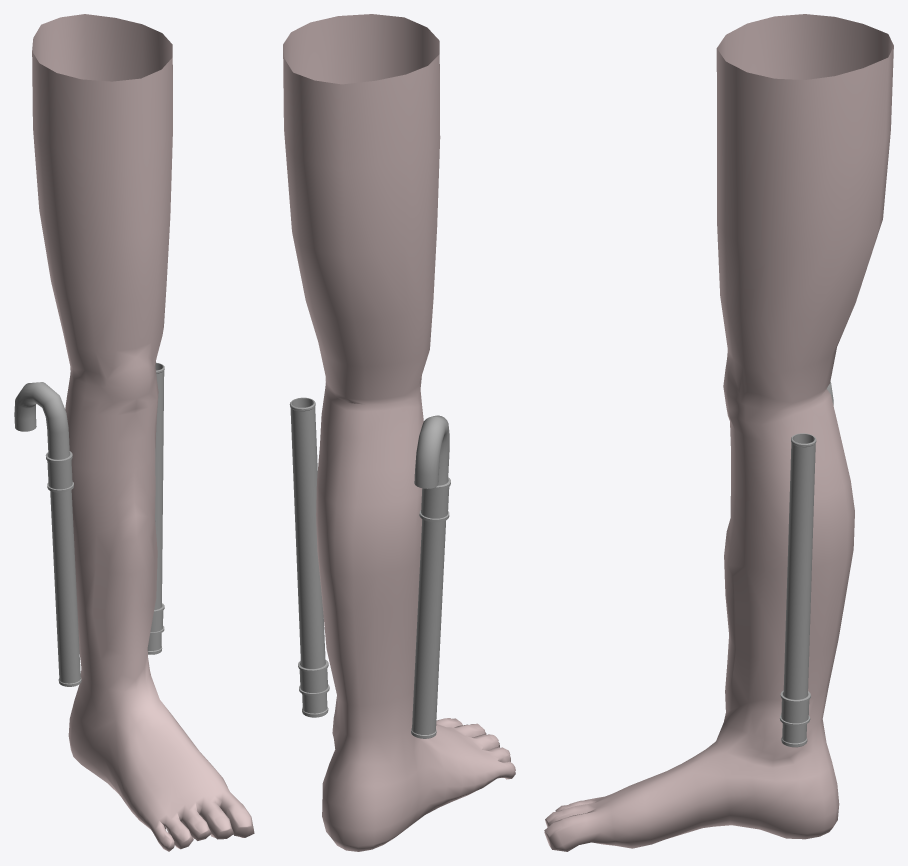
Rendered from FBX_Fracture_Leg_3.fbx.
The picture shows the model from 3 angles, left to right: view 1: azimuth 30°, elevation 25°; view 2: azimuth 150°, elevation 25°; view 3: azimuth 270°, elevation 25°; orthographic projection. The views are drawn at different scales.
Visible parts, largest first — view 1: polySurface5, polySurface4, polySurface6; view 2: polySurface5, polySurface4, polySurface6; view 3: polySurface5, polySurface6.
Part boxes in pixels (box(x1,y1,x2,y2)): polySurface5: box(32, 14, 254, 851); polySurface4: box(14, 382, 81, 686); polySurface6: box(147, 362, 164, 654); polySurface5: box(283, 14, 515, 851); polySurface4: box(411, 415, 450, 738); polySurface6: box(289, 397, 329, 717); polySurface5: box(544, 14, 893, 851); polySurface6: box(779, 433, 816, 747).
Bounding box in the file's own units: 1.65 × 8.14 × 3.25.
